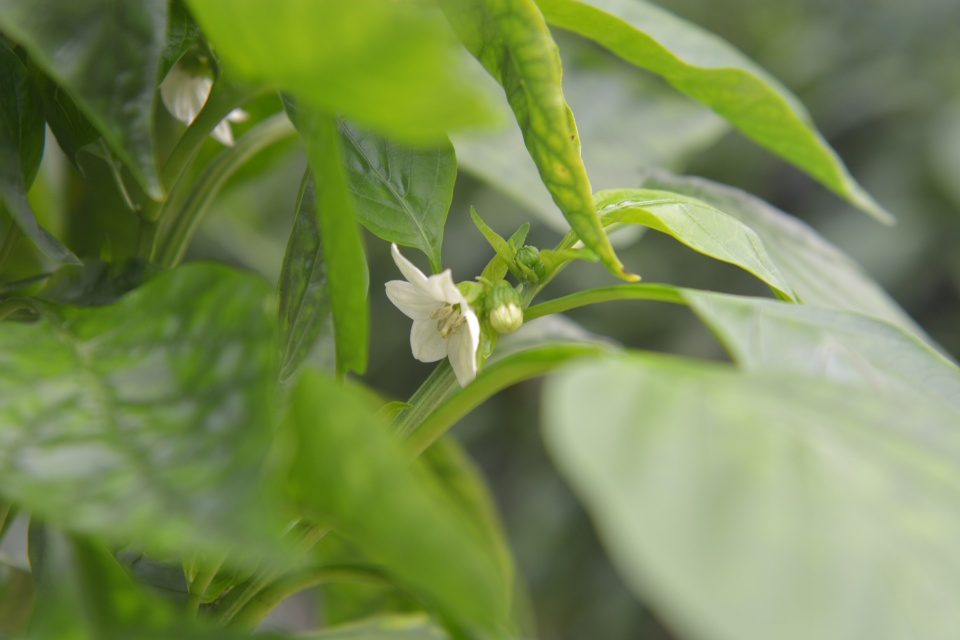flower: (380, 240, 481, 389), (157, 55, 253, 151)
